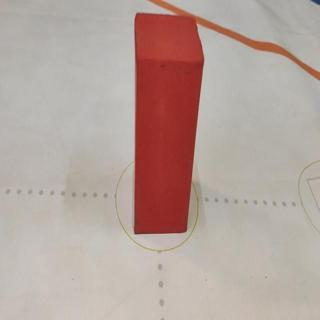redbox: (132, 10, 205, 233)
